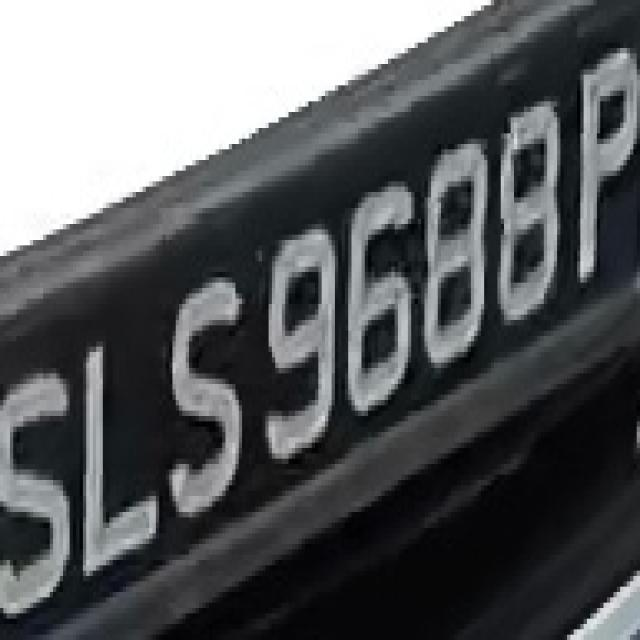6: (335, 149, 411, 427)
8: (421, 139, 504, 373), (488, 90, 560, 330)
9: (262, 203, 348, 469)
L: (66, 304, 166, 576)
P: (570, 27, 634, 298)
S: (156, 245, 249, 539), (0, 352, 66, 624)
